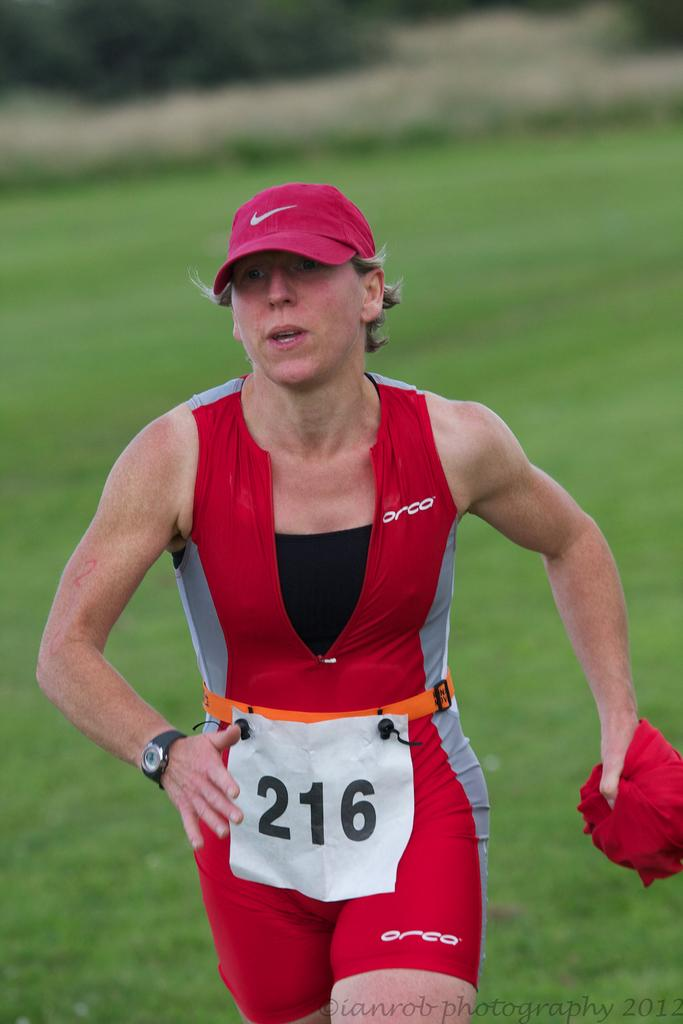Hat: (212, 184, 379, 297)
